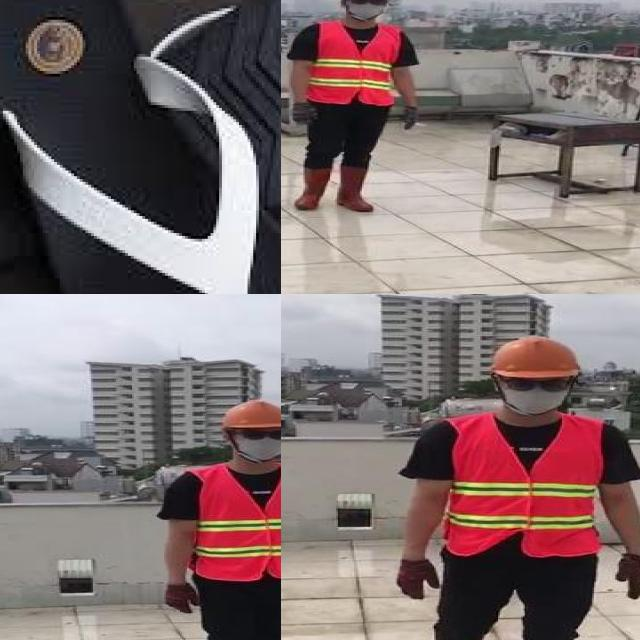Sandals: (0, 0, 281, 294)
boots: (335, 164, 378, 213), (298, 165, 330, 211)
face_mask: (502, 375, 574, 414), (234, 427, 281, 462), (341, 0, 389, 19)
glasses: (500, 376, 578, 396), (230, 425, 281, 443), (346, 0, 388, 6)
hand_glove: (395, 559, 439, 599), (615, 554, 640, 601), (162, 583, 200, 613), (291, 103, 317, 126), (400, 107, 422, 131)
head_helmet: (488, 334, 582, 380), (216, 397, 281, 432)
person: (386, 333, 640, 640), (153, 398, 281, 640), (281, 0, 425, 213)
vest: (443, 416, 599, 555), (194, 465, 281, 580), (312, 21, 398, 108)
